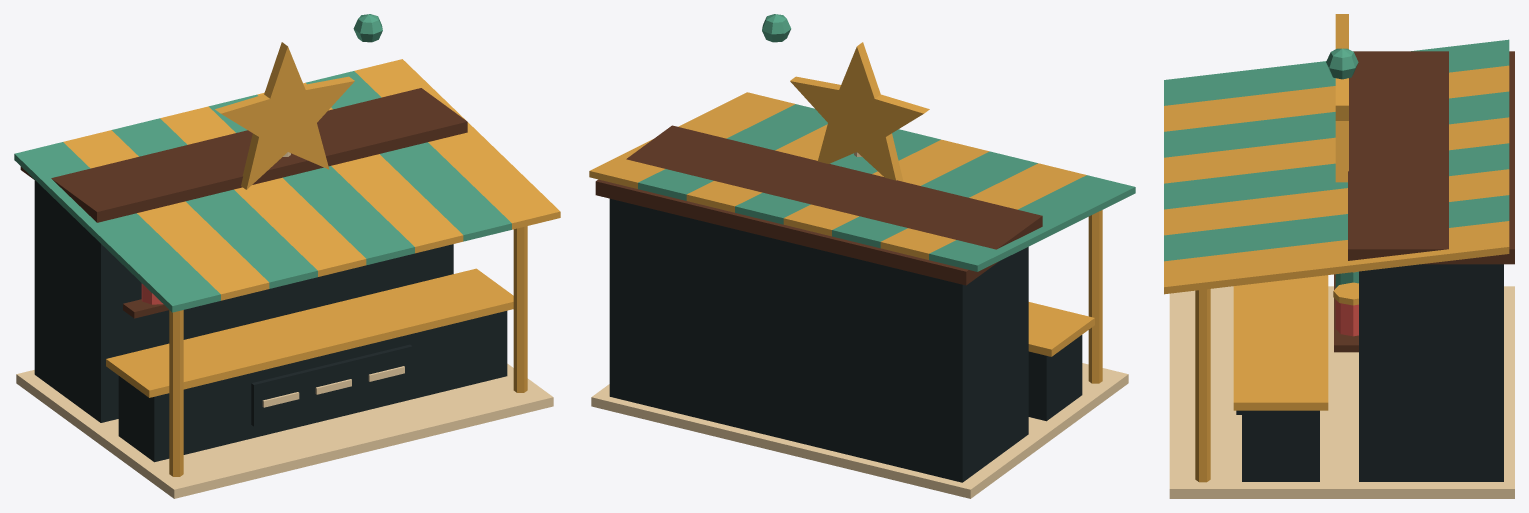
The model's file is ParkParkShopStar.obj.
The picture shows the model from 3 angles, left to right: view 1: azimuth 30°, elevation 25°; view 2: azimuth 150°, elevation 25°; view 3: azimuth 270°, elevation 25°; orthographic projection. The views are drawn at different scales.
Parts seen in each view (by area): view 1: ParkParkShopStar; view 2: ParkParkShopStar; view 3: ParkParkShopStar.
Boxes of the visible parts, box(x1,y1,x2,y2) form: ParkParkShopStar: box(14, 14, 560, 498); ParkParkShopStar: box(589, 14, 1135, 498); ParkParkShopStar: box(1164, 14, 1514, 498).
Size of the model in its own units: 8.8 by 7.8 by 6.3.
